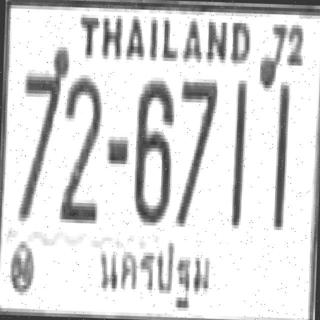N01: (229, 78, 246, 227), (271, 82, 288, 227)
N02: (58, 72, 102, 222)
N06: (131, 77, 173, 223)
N07: (17, 46, 67, 219), (174, 75, 216, 224)
P28: (94, 229, 217, 319)
